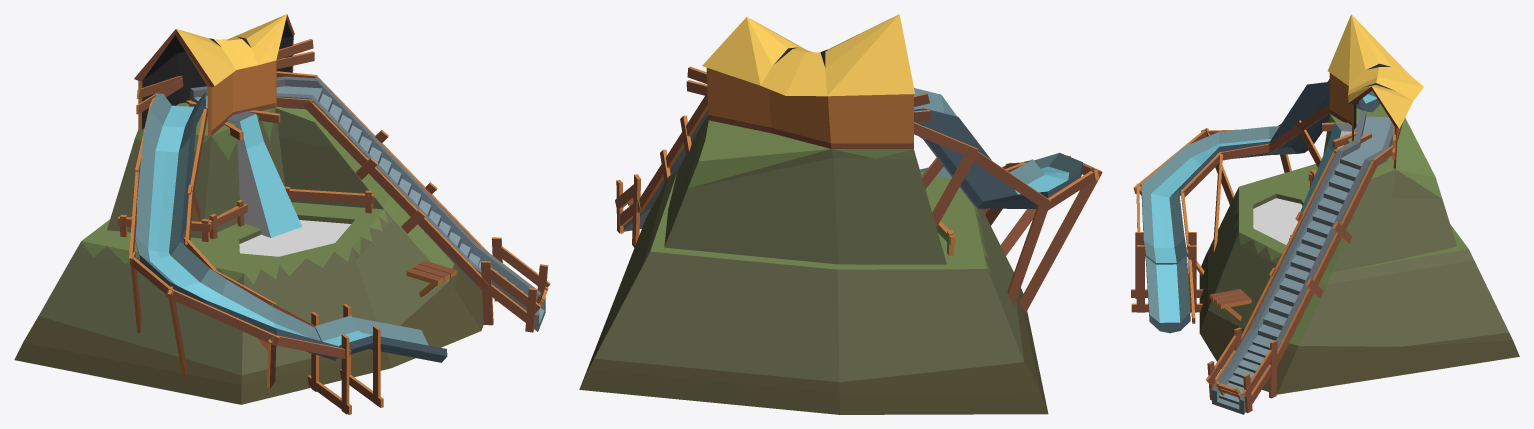
Rendered from DC_Fun_Flume.fbx.
The picture shows the model from 3 angles, left to right: view 1: azimuth 30°, elevation 25°; view 2: azimuth 150°, elevation 25°; view 3: azimuth 270°, elevation 25°; orthographic projection. The views are drawn at different scales.
Visible parts, largest first — view 1: Cube.002, Cube.001, Cube.003; view 2: Cube.002, Cube.001; view 3: Cube.002, Cube.001, Cube.003.
Boxes of the visible parts, x1,y1,x2,y2 form: Cube.002: [14, 14, 550, 414]; Cube.001: [118, 39, 550, 413]; Cube.003: [315, 315, 372, 358]; Cube.002: [579, 14, 1102, 414]; Cube.001: [615, 66, 1101, 312]; Cube.002: [1131, 14, 1519, 414]; Cube.001: [1131, 104, 1395, 412]; Cube.003: [1144, 238, 1186, 264].
Bounding box in the file's own units: 859 × 559 × 727.
